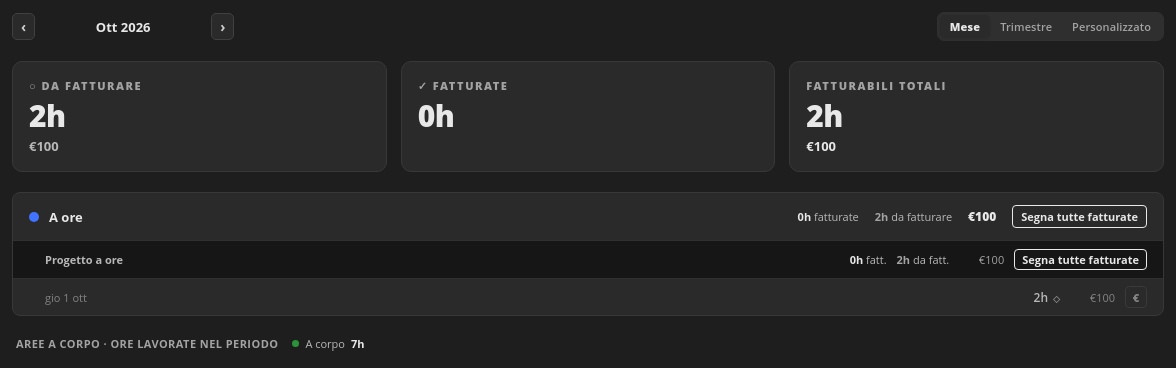
Test: Rendiconto: solo le aree a ore › segnare una registrazione come fatturata la sposta tra i riquadri
2h fatturabili a 50 €/h, ancora da fatturare
Click the button titled "Segna come fatturata" at (1136, 297), box [1125,286,1147,308]
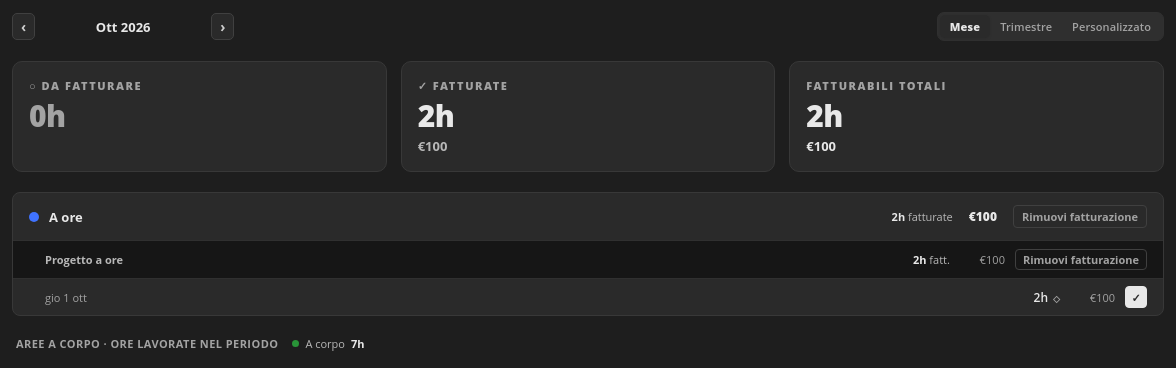
Expected: the button titled "Segna come non fatturata" is shown, [1125,286,1147,308]
